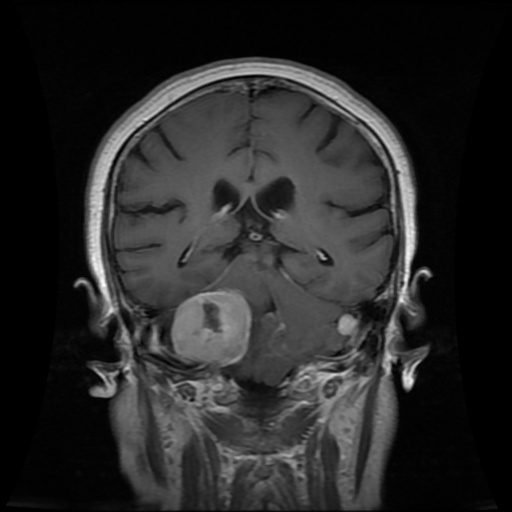meningioma: (170, 289, 250, 365)
